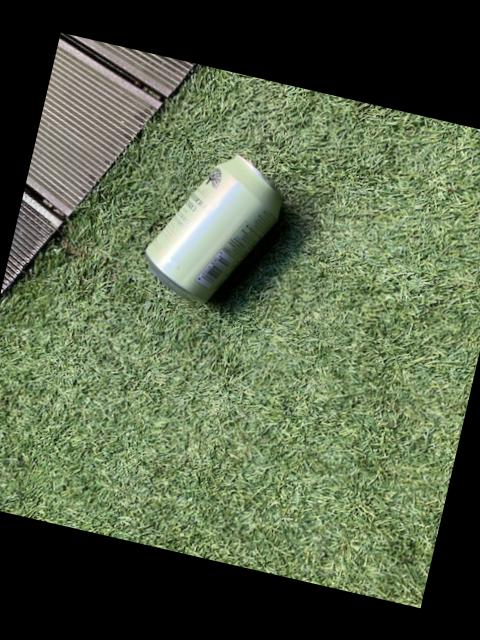metal: (1, 32, 191, 288)
